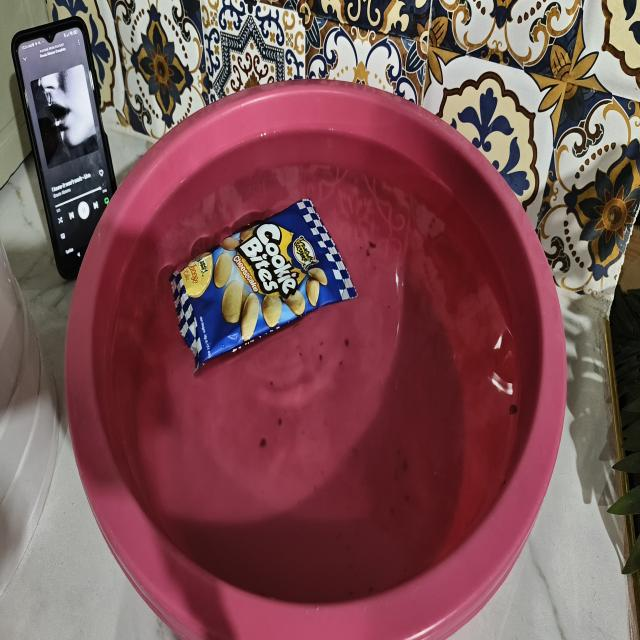Plastic Wrapper: (171, 199, 357, 369)
